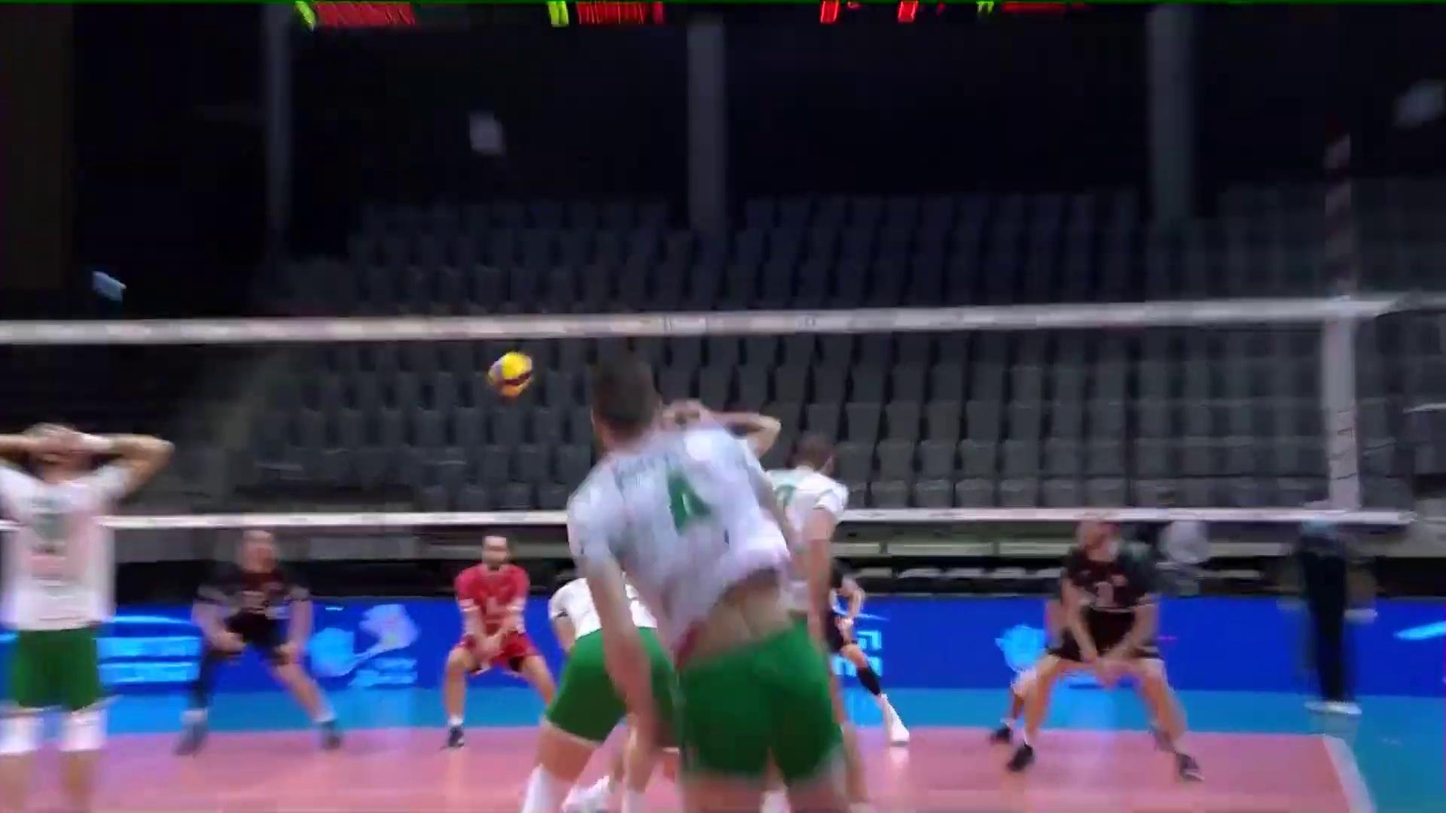ball: (486, 351, 538, 400)
